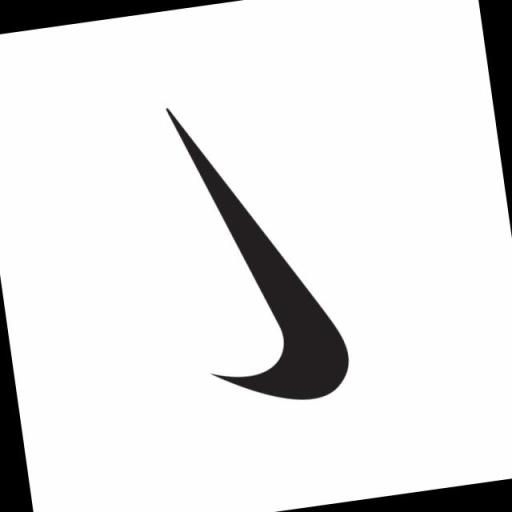Nike: (158, 86, 356, 416)
